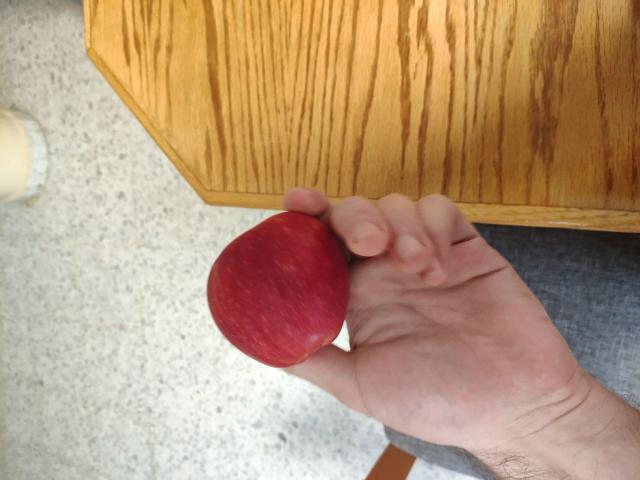apple: (200, 210, 366, 377)
